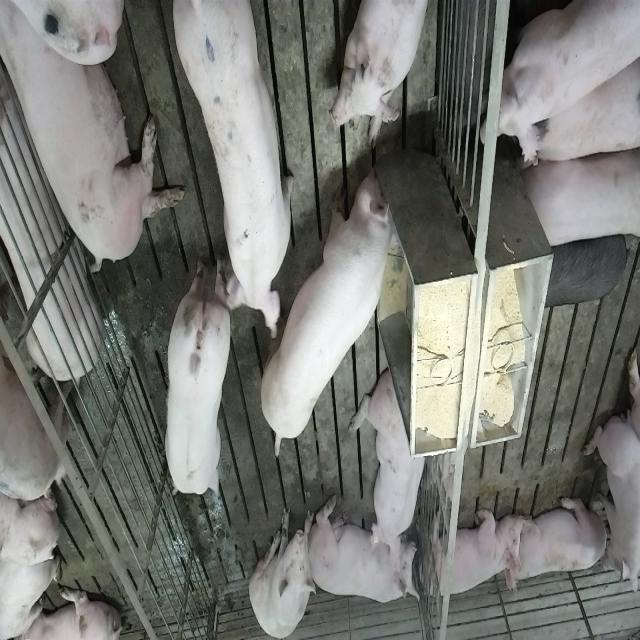Lateral_lying: (4, 0, 186, 272), (0, 59, 102, 378)
Sitting: (249, 502, 317, 638)
Standing: (170, 5, 296, 346), (261, 162, 403, 464), (495, 0, 639, 156), (159, 254, 231, 506), (0, 254, 73, 500), (518, 140, 638, 256), (526, 230, 636, 314)
Sternal_lying: (335, 0, 436, 140), (356, 367, 430, 555), (312, 504, 418, 612), (586, 411, 638, 603), (509, 491, 608, 588), (425, 504, 521, 603)
